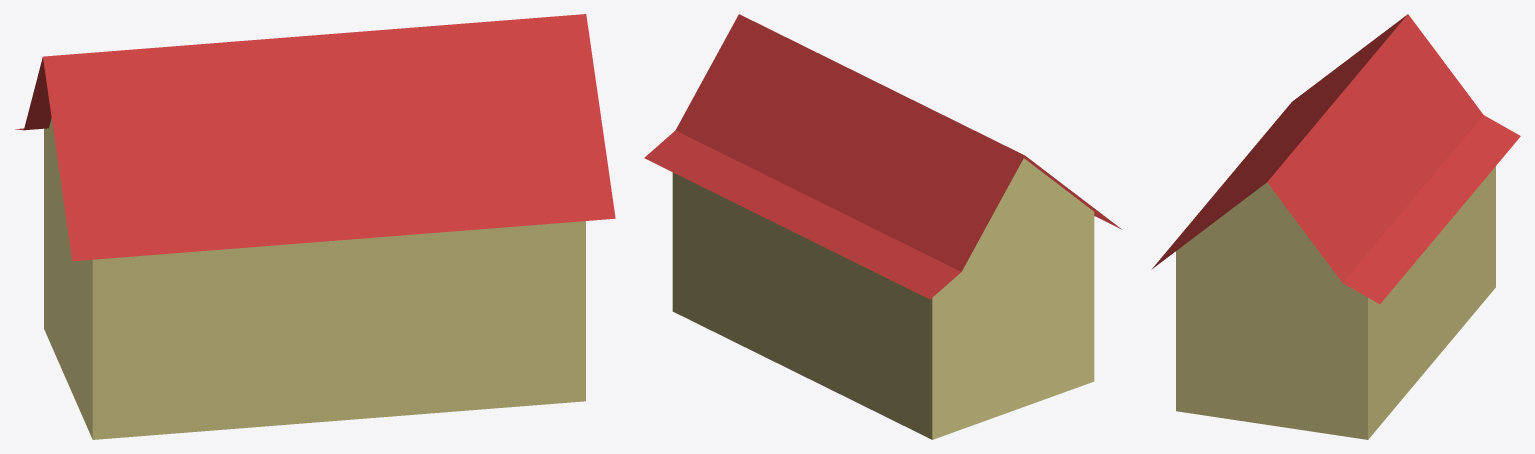
The picture shows the model from 3 angles, left to right: view 1: azimuth 30°, elevation 25°; view 2: azimuth 150°, elevation 25°; view 3: azimuth 270°, elevation 25°; orthographic projection. The views are drawn at different scales.
Bounding box in the file's own units: 24.52 × 18.93 × 14.19.
